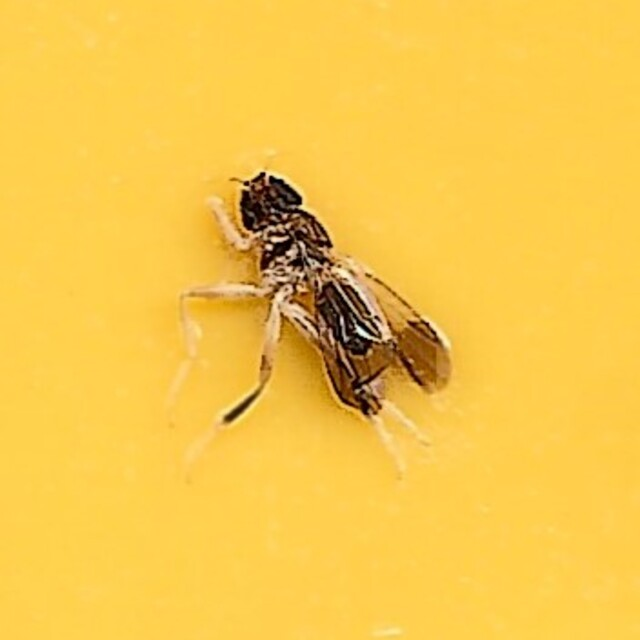Brachycera: (182, 171, 458, 469)
